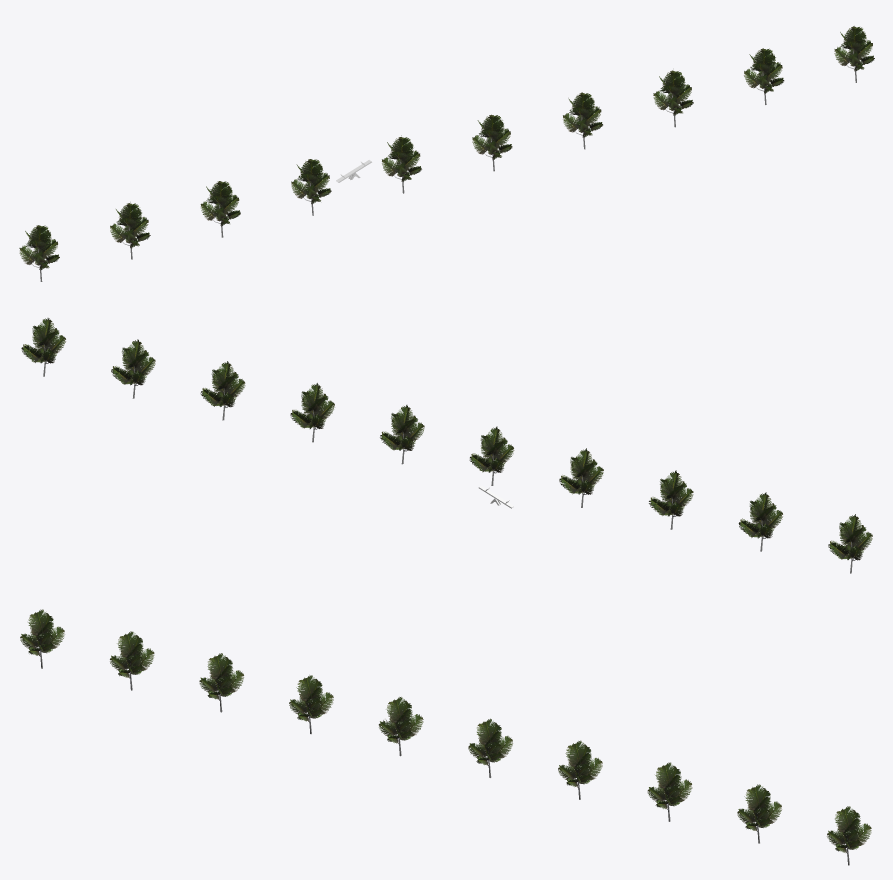
3 renders of one model, top to bottom at view 1: azimuth 30°, elevation 25°; view 2: azimuth 150°, elevation 25°; view 3: azimuth 330°, elevation 25°, orthographic.
Parts seen in each view (by area): view 1: shuye043, shuye044, shuye049, shuye045, shuye042, shuye046, shuye047, shuye051, shuye048, shuye050; view 2: shuye044, shuye045, shuye050, shuye043, shuye042, shuye047, shuye051, shuye046, shuye049, shuye048; view 3: shuye048, shuye043, shuye042, shuye050, shuye045, shuye046, shuye044, shuye049, shuye047, shuye051.
Part boxes in pixels (x1,y1,x2,y2): shuye043: [200, 181, 240, 225]; shuye044: [291, 159, 331, 203]; shuye049: [744, 48, 784, 93]; shuye045: [382, 135, 421, 181]; shuye042: [110, 202, 150, 247]; shuye046: [472, 114, 512, 159]; shuye047: [563, 92, 602, 137]; shuye051: [19, 225, 59, 269]; shuye048: [653, 70, 693, 115]; shuye050: [834, 26, 874, 71]; shuye044: [559, 448, 603, 494]; shuye045: [469, 426, 514, 472]; shuye050: [21, 318, 65, 363]; shuye043: [649, 470, 693, 516]; shuye042: [738, 492, 782, 538]; shuye047: [290, 383, 334, 428]; shuye051: [828, 514, 872, 560]; shuye046: [380, 405, 424, 450]; shuye049: [111, 339, 155, 385]; shuye048: [200, 361, 245, 407]; shuye048: [647, 762, 692, 808]; shuye043: [199, 653, 243, 699]; shuye042: [110, 631, 154, 677]; shuye050: [827, 806, 871, 852]; shuye045: [379, 697, 423, 743]; shuye046: [468, 718, 512, 765]; shuye044: [289, 675, 333, 721]; shuye049: [737, 784, 781, 830]; shuye047: [558, 740, 602, 787]; shuye051: [20, 609, 64, 655].
Bounding box in the file's own units: 4067 × 291 × 303.
3 materials, 1 textured.
